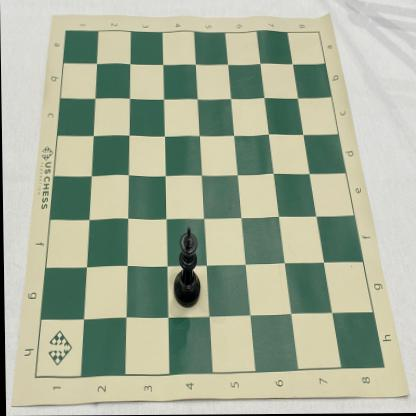black-king: (172, 227, 201, 309)
